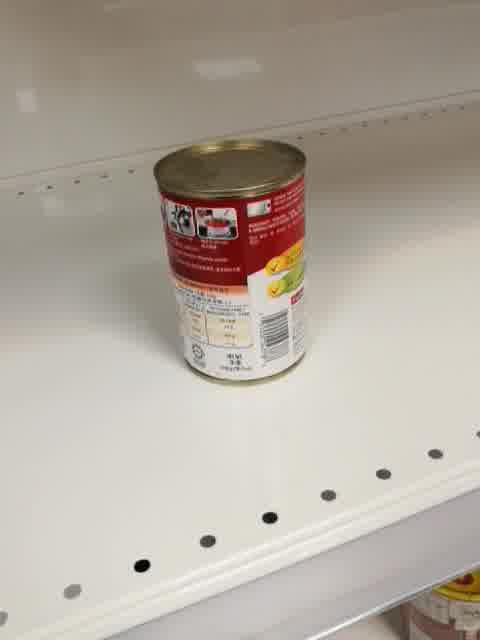tomatosoup: (152, 136, 310, 389)
